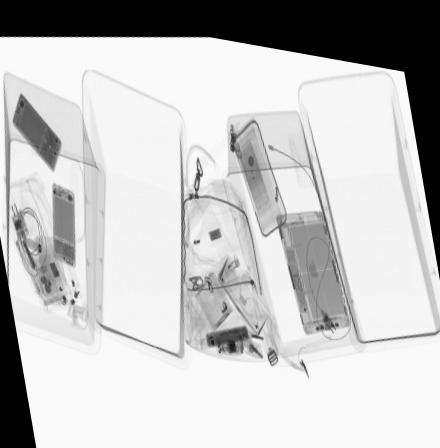Lighter: (218, 245, 239, 274)
